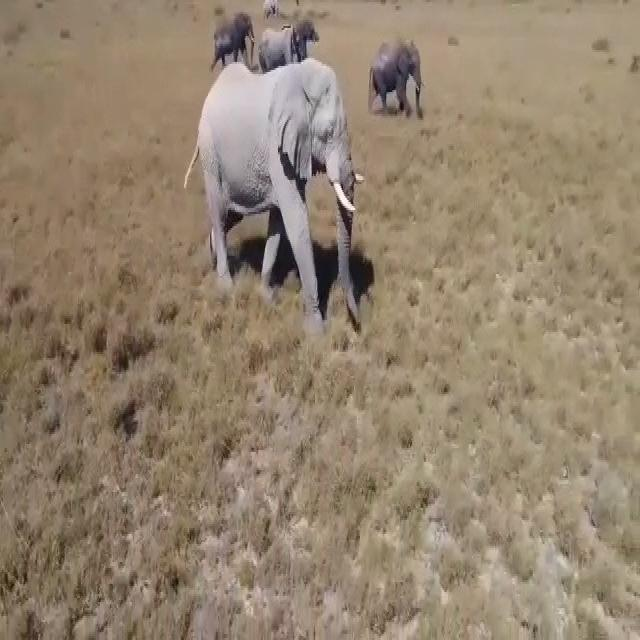Elephant: (195, 60, 372, 317), (368, 30, 430, 124), (208, 3, 258, 65), (261, 22, 311, 64), (262, 0, 282, 21)
